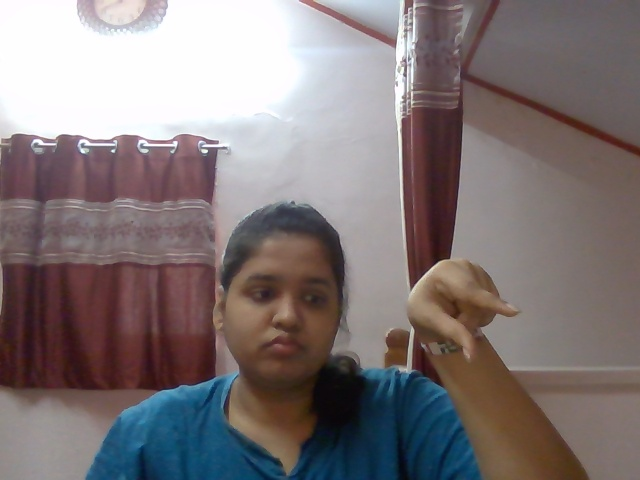q: (379, 254, 548, 358)
